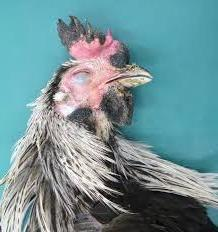AbNormal: (55, 20, 132, 67)
